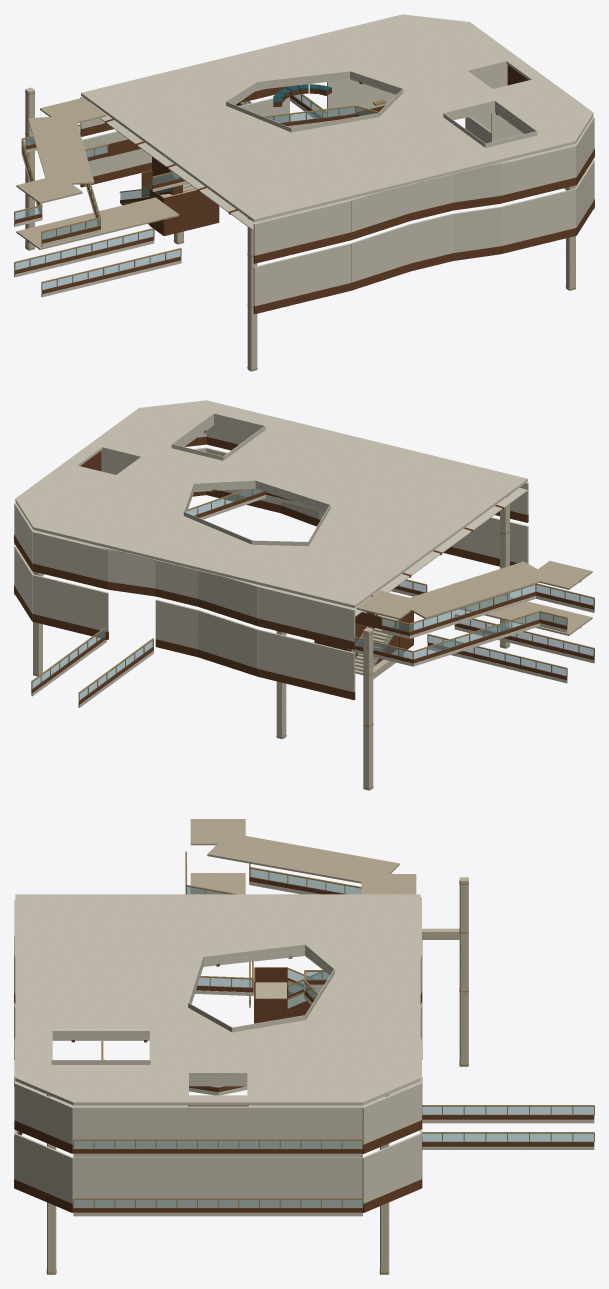
The model's file is AST-COM-001.glb.
3 renders of one model, top to bottom at view 1: azimuth 30°, elevation 25°; view 2: azimuth 150°, elevation 25°; view 3: azimuth 270°, elevation 25°, orthographic. The views are drawn at different scales.
Visible parts, largest first — view 1: SC_static_ivory_enamel, SC_static_warm_walnut, SC_static_oatmeal_weave, SC_static_glass, SC_static_warm_stone, SC_static_champagne_metal; view 2: SC_static_ivory_enamel, SC_static_warm_walnut, SC_static_oatmeal_weave, SC_static_glass, SC_static_warm_stone, SC_static_champagne_metal; view 3: SC_static_ivory_enamel, SC_static_warm_walnut, SC_static_glass, SC_static_oatmeal_weave, SC_static_warm_stone, SC_static_champagne_metal.
Part boxes in pixels (bbox=[...]): SC_static_ivory_enamel: bbox=[14, 14, 594, 306]; SC_static_warm_walnut: bbox=[14, 65, 594, 313]; SC_static_oatmeal_weave: bbox=[16, 98, 179, 249]; SC_static_glass: bbox=[15, 94, 376, 289]; SC_static_warm_stone: bbox=[25, 87, 575, 371]; SC_static_champagne_metal: bbox=[14, 91, 575, 370]; SC_static_ivory_enamel: bbox=[14, 400, 594, 707]; SC_static_warm_walnut: bbox=[14, 430, 594, 704]; SC_static_oatmeal_weave: bbox=[356, 561, 592, 635]; SC_static_glass: bbox=[32, 488, 593, 699]; SC_static_warm_stone: bbox=[33, 446, 509, 790]; SC_static_champagne_metal: bbox=[31, 489, 594, 789]; SC_static_ivory_enamel: bbox=[14, 866, 594, 1216]; SC_static_warm_walnut: bbox=[14, 876, 594, 1212]; SC_static_glass: bbox=[74, 869, 593, 1207]; SC_static_oatmeal_weave: bbox=[190, 819, 416, 894]; SC_static_warm_stone: bbox=[47, 877, 468, 1274]; SC_static_champagne_metal: bbox=[46, 851, 594, 1273].
Size of the model in its own units: 47.11 by 14.76 by 40.14.
8 materials, 6 textured.
